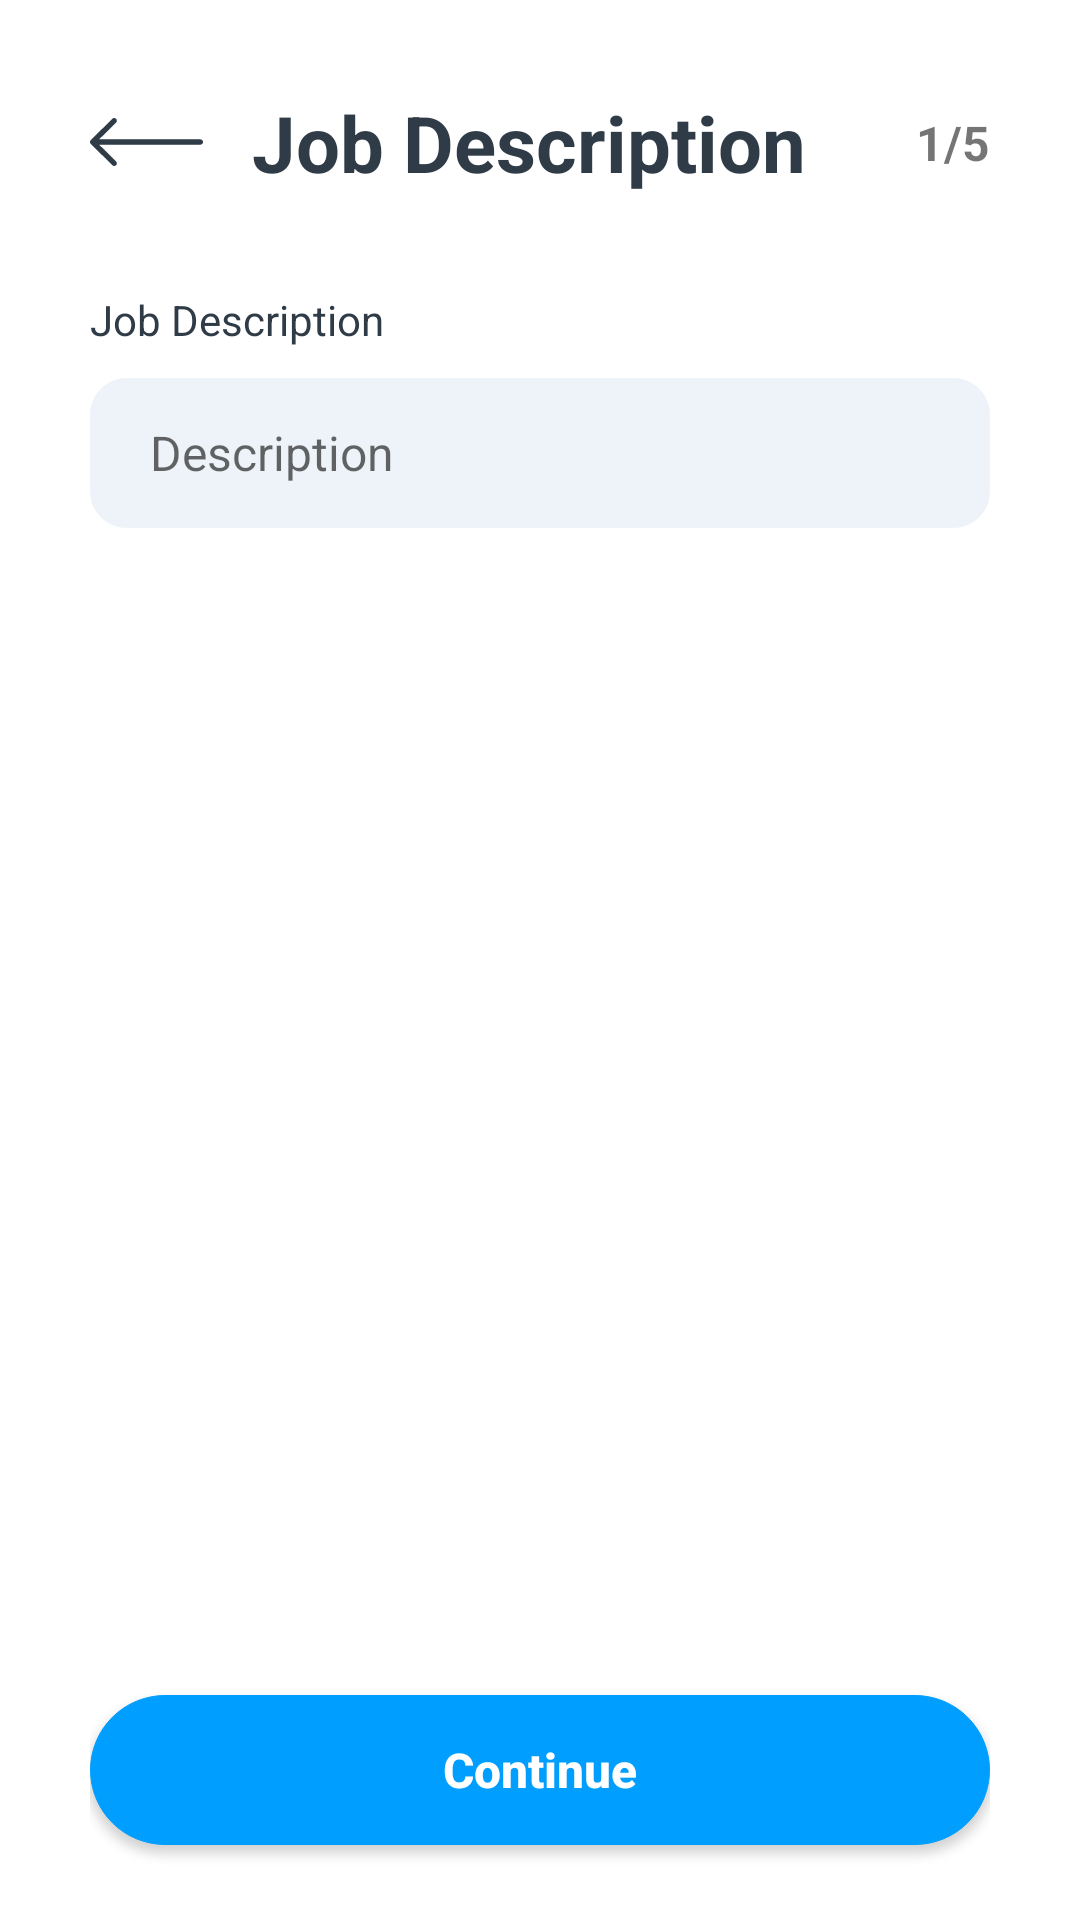

Named icons in this screenshot (1080*1920) and their centers, [x,y]:
backward: [146,142]
